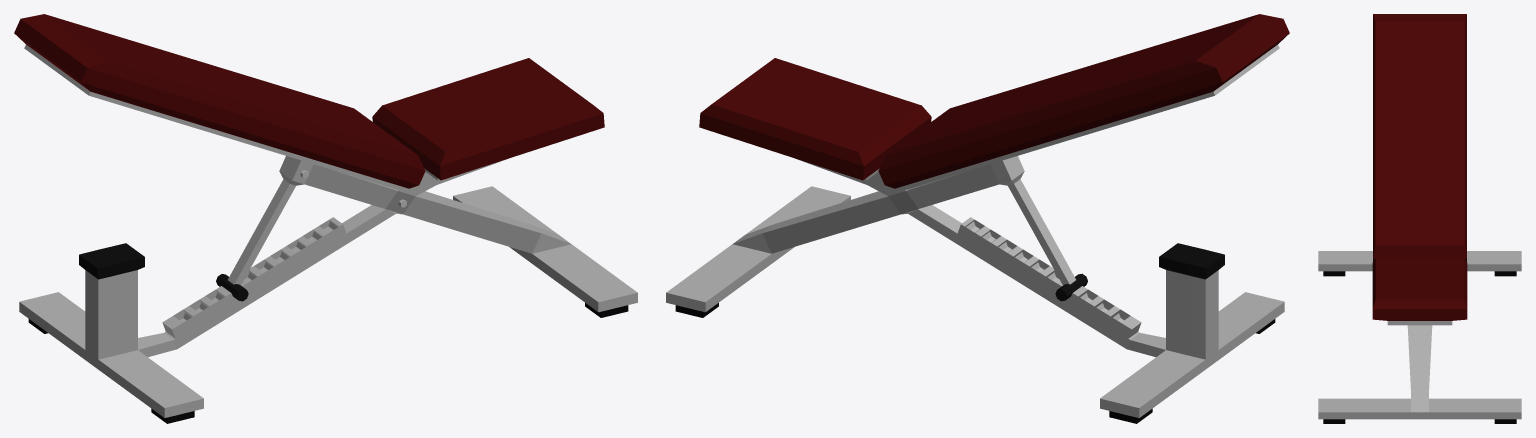
Rendered from GymBench.005.fbx.
The picture shows the model from 3 angles, left to right: view 1: azimuth 30°, elevation 25°; view 2: azimuth 150°, elevation 25°; view 3: azimuth 270°, elevation 25°; orthographic projection. The views are drawn at different scales.
Parts seen in each view (by area): view 1: GymBench.005; view 2: GymBench.005; view 3: GymBench.005.
Boxes of the visible parts, x1,y1,x2,y2 form: GymBench.005: (14, 14, 637, 423); GymBench.005: (666, 14, 1289, 423); GymBench.005: (1318, 14, 1521, 423).
Bounding box in the file's own units: 106 × 66.2 × 51.19.
